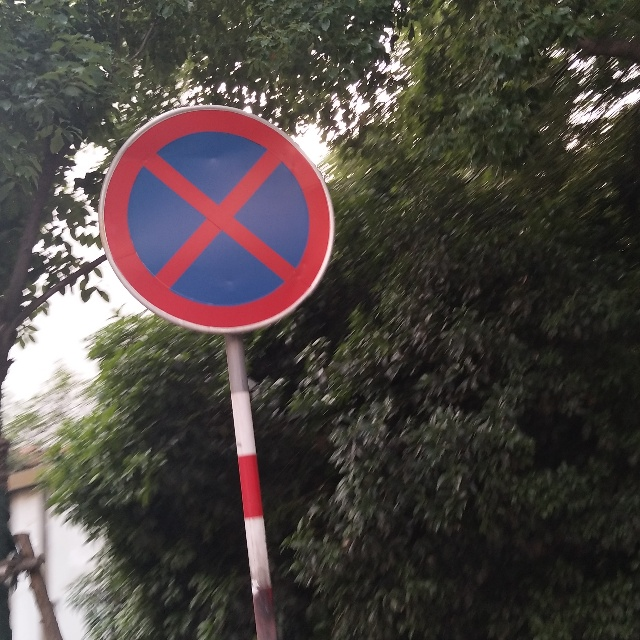stop: (98, 105, 334, 336)
